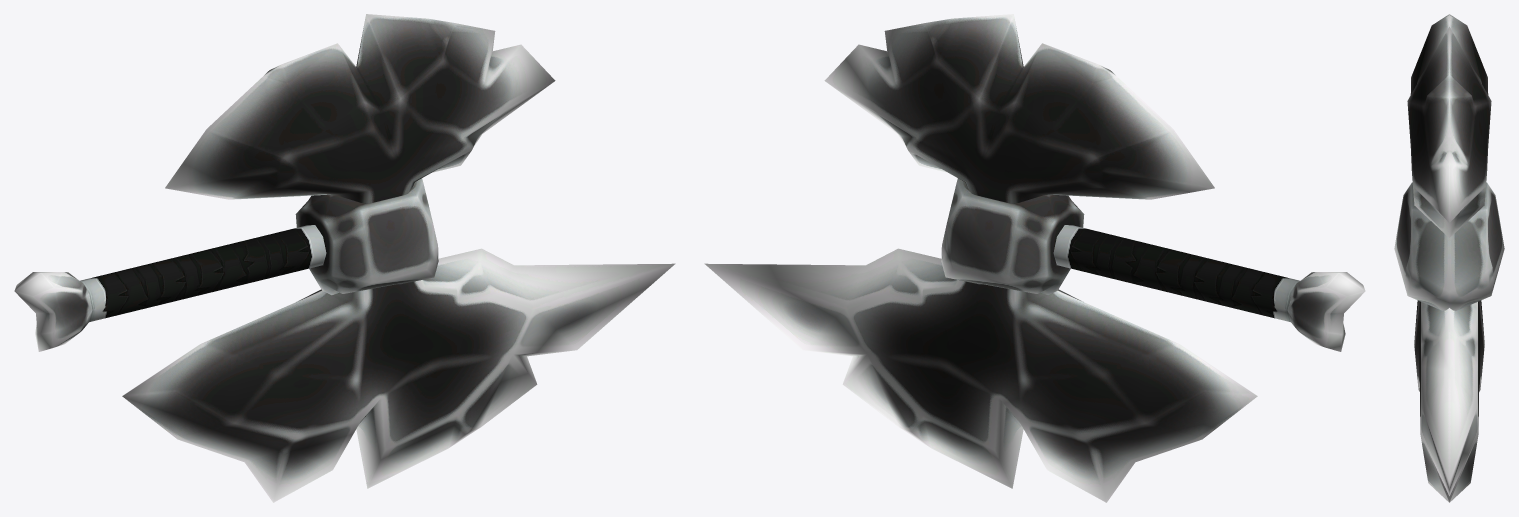
Rendered from item_weaaxemgm2501-et07.glb.
3 renders of one model, left to right at view 1: azimuth 30°, elevation 25°; view 2: azimuth 150°, elevation 25°; view 3: azimuth 270°, elevation 25°, orthographic. The views are drawn at different scales.
Visible parts, largest first — view 1: FlyffMesh; view 2: FlyffMesh; view 3: FlyffMesh.
Boxes of the visible parts, bbox=[...] form: FlyffMesh: bbox=[14, 14, 675, 502]; FlyffMesh: bbox=[704, 14, 1365, 502]; FlyffMesh: bbox=[1394, 14, 1504, 502].
Bounding box in the file's own units: 1.04 × 0.7132 × 0.1566.
1 material, 1 textured.
